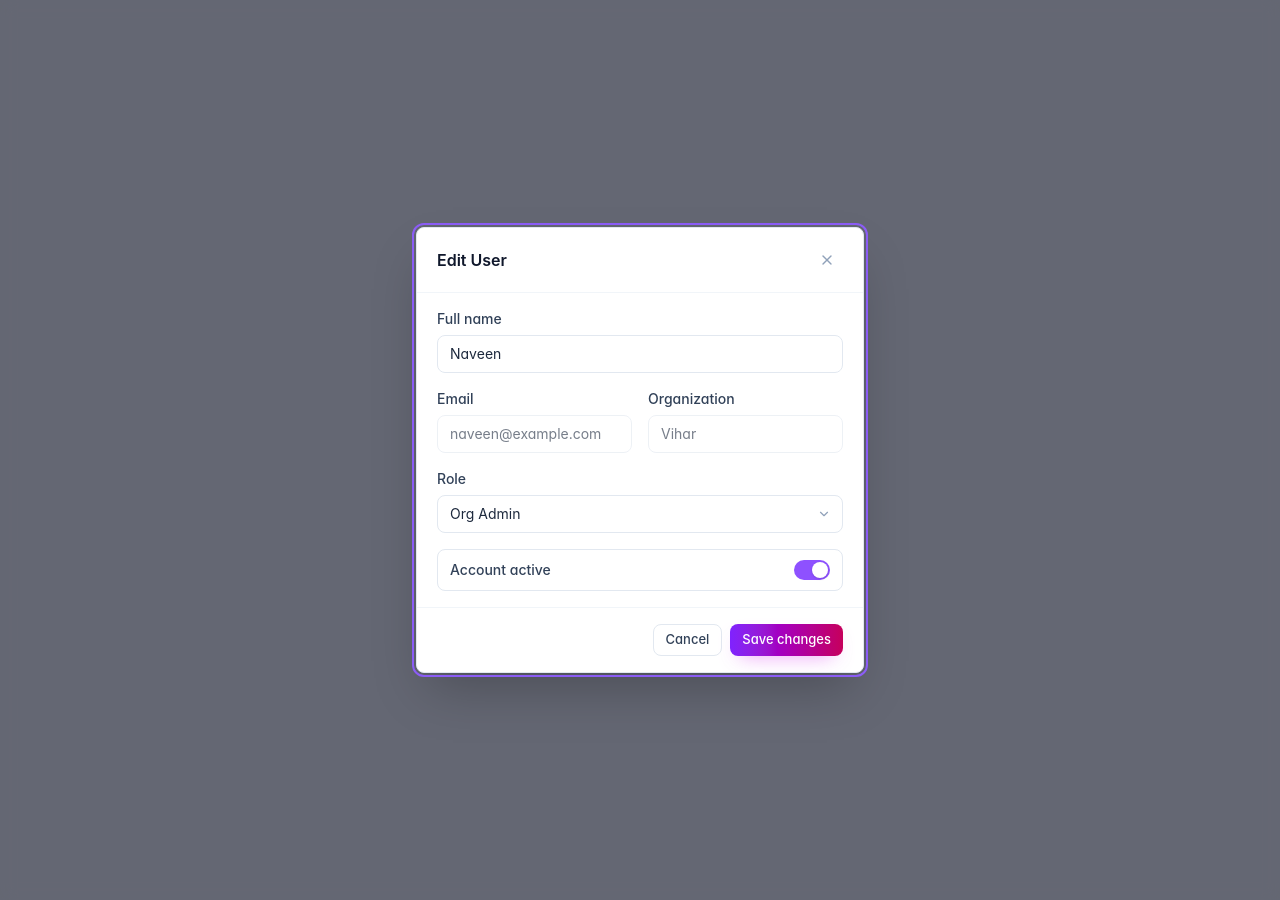
Test: promoting to Super Admin without an identity elevation › explains the requirement and offers Elevate instead of Save
Select "Super Admin" in the dropdown. click: point(640, 514)
box: x1=437 y1=495 x2=843 y2=533
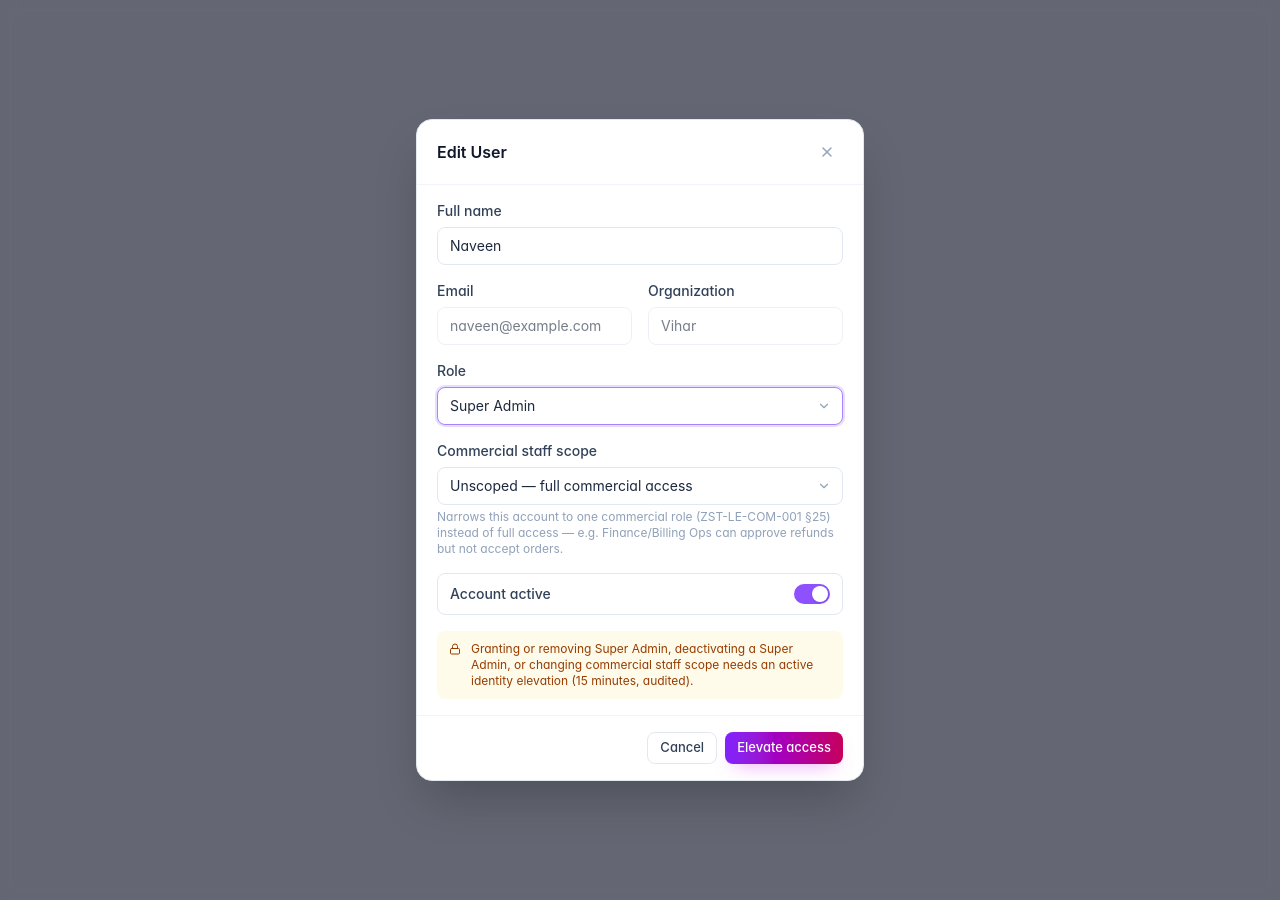
Expected: the message shows "needs an active identity elevation", x1=471 y1=641 x2=813 y2=688
Expected: the button "Elevate access" is shown, x1=725 y1=732 x2=843 y2=764
Expected: the button "Save changes" is gone
